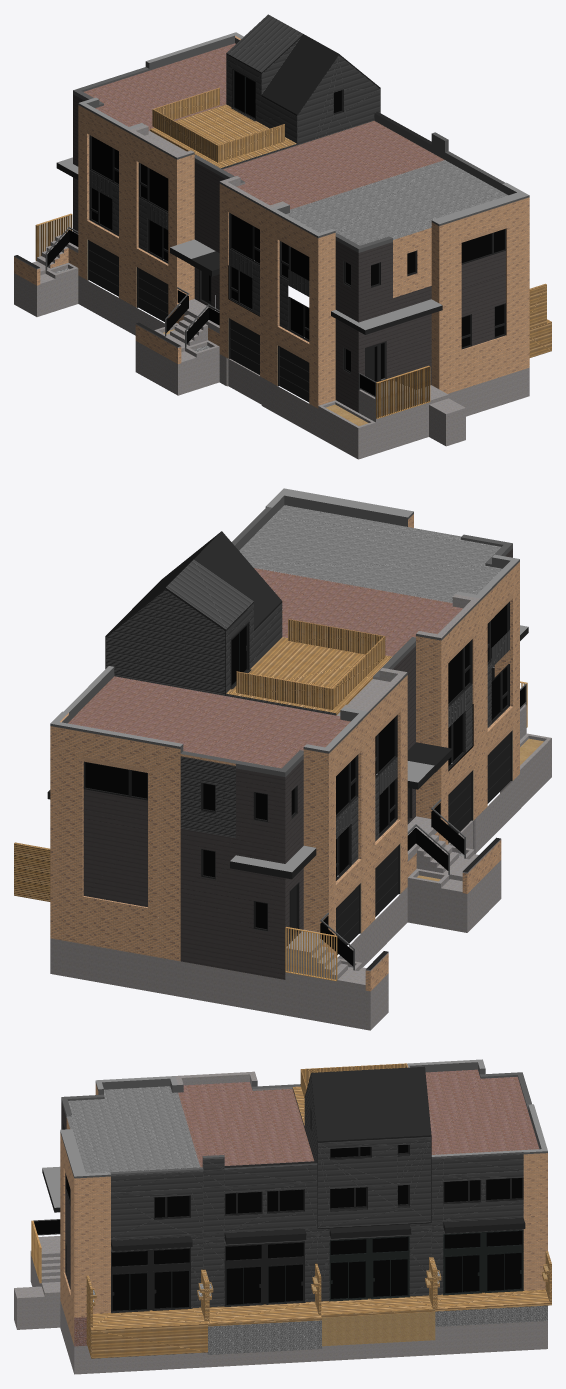
The picture shows the model from 3 angles, top to bottom: view 1: azimuth 30°, elevation 25°; view 2: azimuth 150°, elevation 25°; view 3: azimuth 270°, elevation 25°; orthographic projection. The views are drawn at different scales.
Parts seen in each view (by area): view 1: Mesh26, Mesh14, Mesh22, Mesh03; view 2: Mesh03, Mesh14, Mesh26, Mesh22; view 3: Mesh26, Mesh14, Mesh22, Mesh03.
Boxes of the visible parts, bbox=[...] form: Mesh26: bbox=[269, 151, 551, 459]; Mesh14: bbox=[127, 14, 380, 383]; Mesh22: bbox=[157, 112, 448, 409]; Mesh03: bbox=[14, 32, 243, 330]; Mesh03: bbox=[14, 666, 388, 1030]; Mesh14: bbox=[105, 531, 484, 961]; Mesh26: bbox=[231, 488, 551, 848]; Mesh22: bbox=[254, 568, 501, 915]; Mesh26: bbox=[14, 1076, 207, 1374]; Mesh14: bbox=[292, 1063, 435, 1361]; Mesh22: bbox=[175, 1071, 321, 1367]; Mesh03: bbox=[407, 1059, 551, 1355].
Size of the model in its own units: 712 by 571 by 1040.
Materials: 25 (18 with a texture image).
